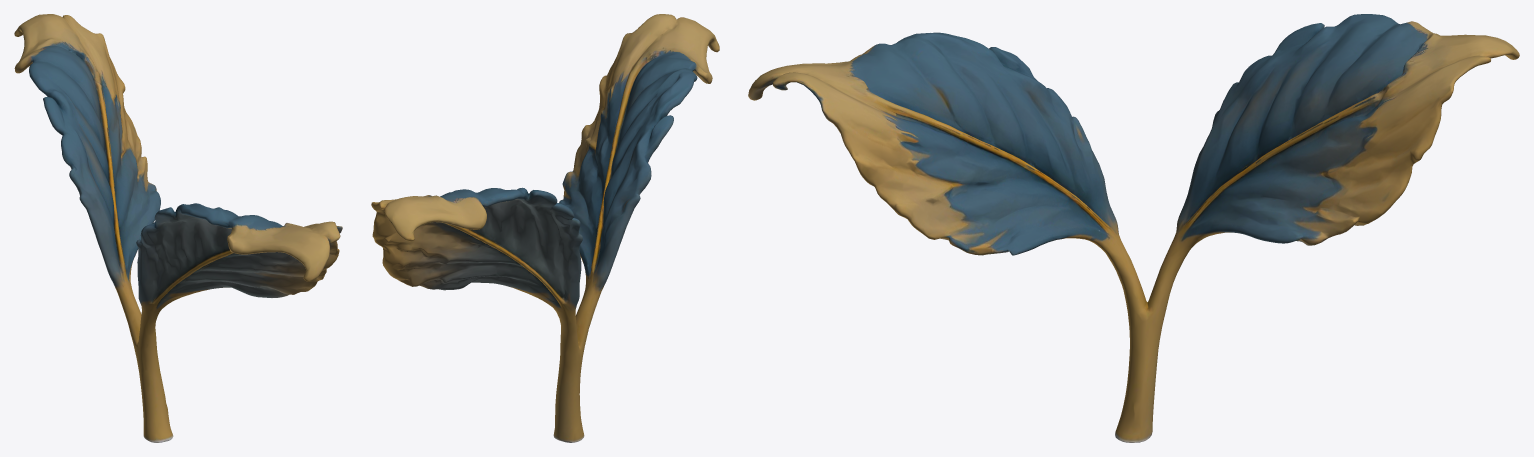
The model's file is ornamental+leaves+3d+model+1k.glb.
3 views of the same model, side by side, from view 1: azimuth 30°, elevation 25°; view 2: azimuth 150°, elevation 25°; view 3: azimuth 270°, elevation 25° (orthographic). The views are drawn at different scales.
Parts seen in each view (by area): view 1: tripo_node_2403dfb1-cc1f-4654-9768-bc6a7690e447; view 2: tripo_node_2403dfb1-cc1f-4654-9768-bc6a7690e447; view 3: tripo_node_2403dfb1-cc1f-4654-9768-bc6a7690e447.
Part boxes in pixels (box(x1,y1,x2,y2)): tripo_node_2403dfb1-cc1f-4654-9768-bc6a7690e447: box(14, 14, 342, 442); tripo_node_2403dfb1-cc1f-4654-9768-bc6a7690e447: box(371, 14, 719, 442); tripo_node_2403dfb1-cc1f-4654-9768-bc6a7690e447: box(748, 14, 1519, 442).
Size of the model in its own units: 0.2451 by 0.5888 by 1.
Materials: 1 (1 with a texture image).
